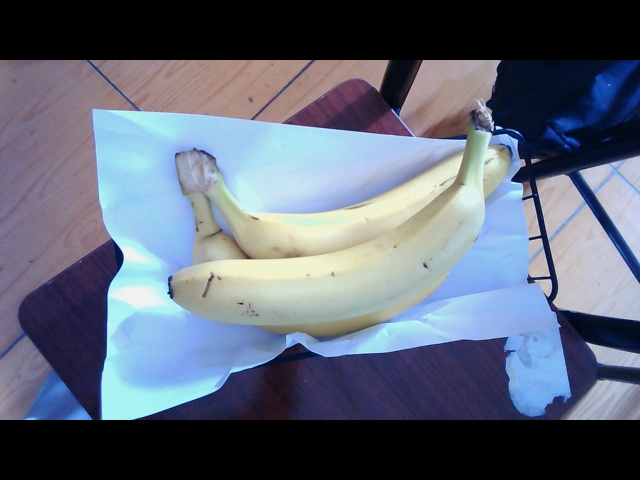banana: (153, 134, 519, 333)
